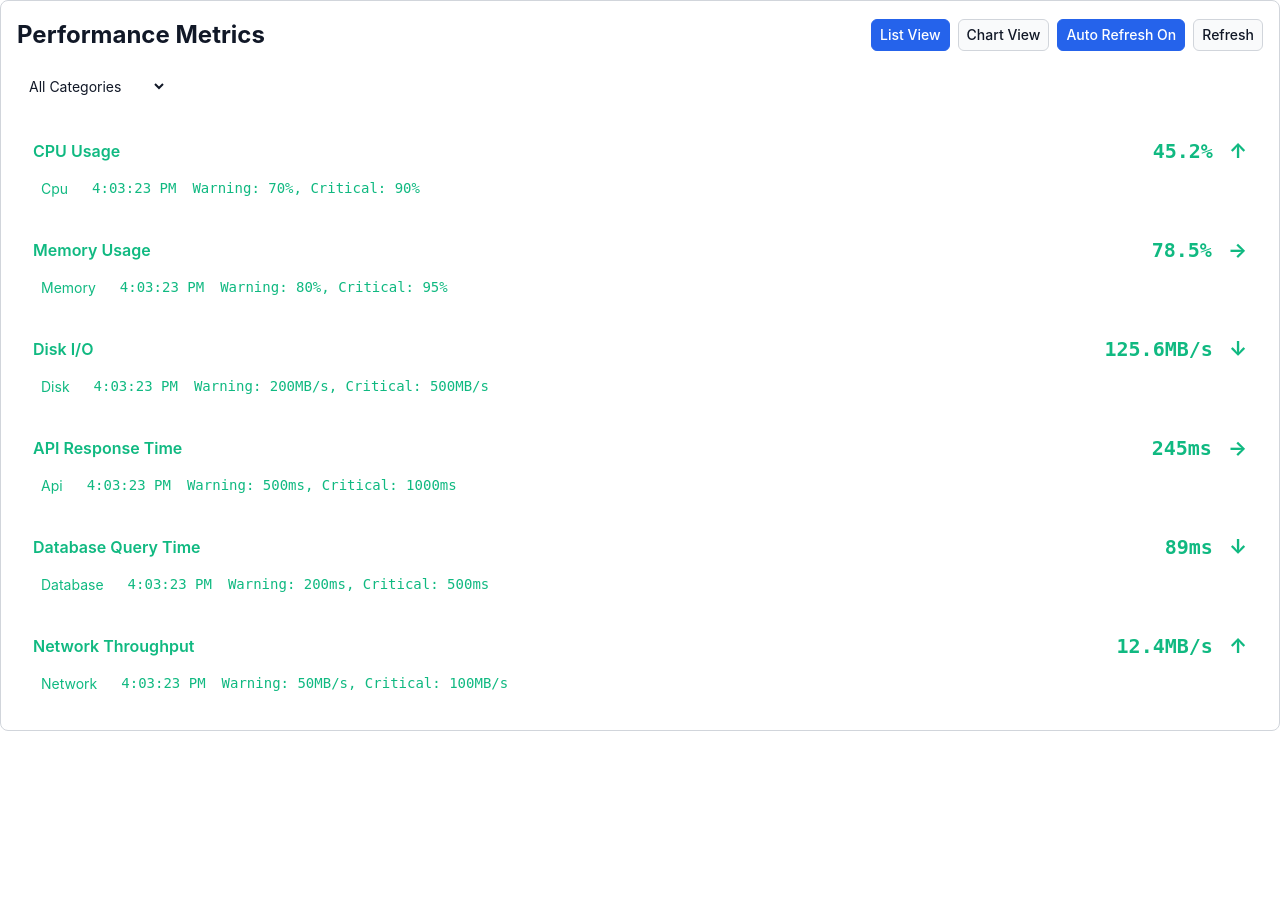
Test case: PerformanceMetrics Component › switches between list and chart view
expect the heading "Performance Metrics" is shown: met, box [17,17,265,53]
expect the text "CPU Usage" is shown: met, box [33,141,120,161]
Note: Switch to chart view
Click the button "Chart View".
click(1004, 35)  # box [958,19,1049,51]
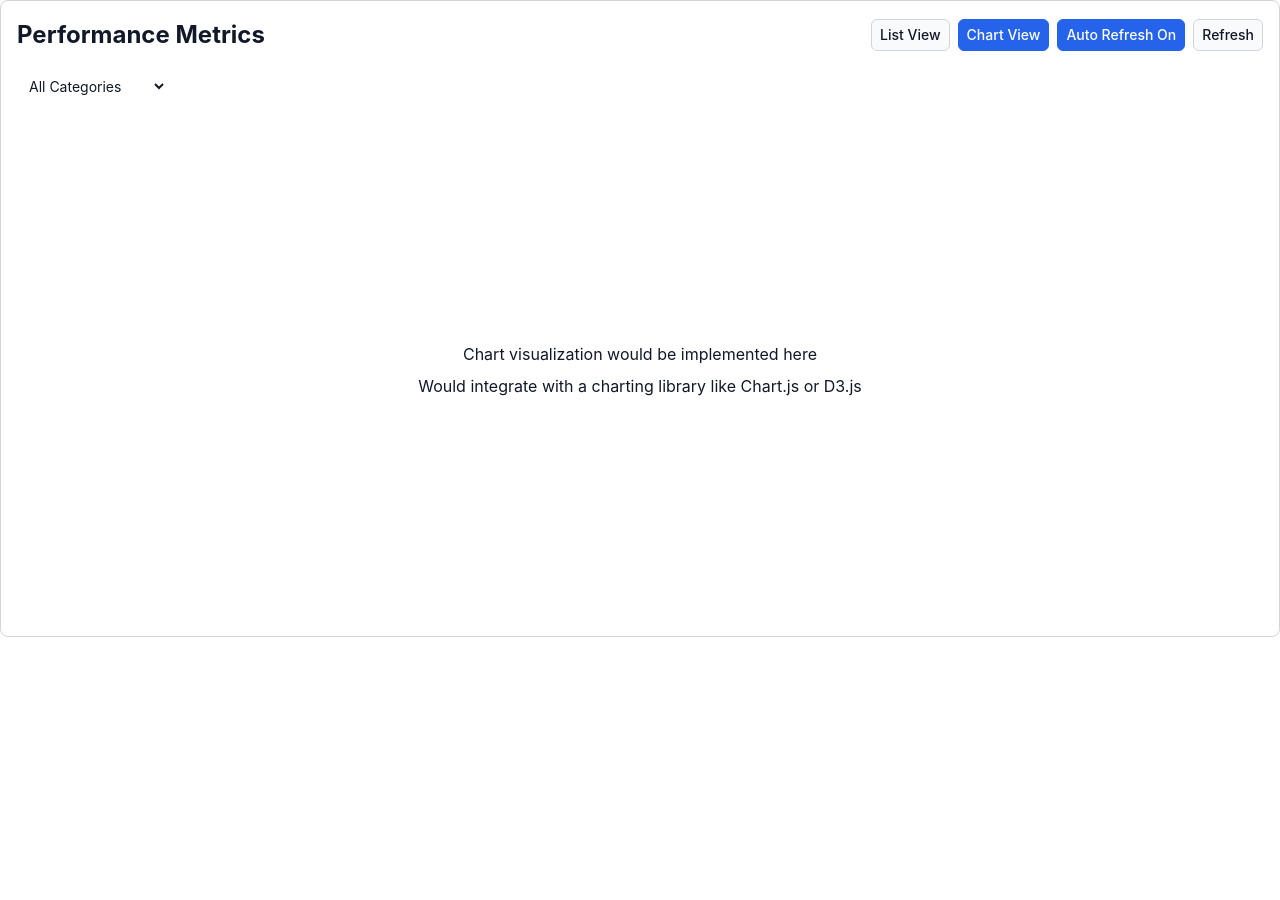
expect the text "Chart visualization would be implemented here" is shown: met, box [463,344,817,364]
Note: Switch back to list view
Click the button "List View".
click(910, 35)  # box [871,19,950,51]
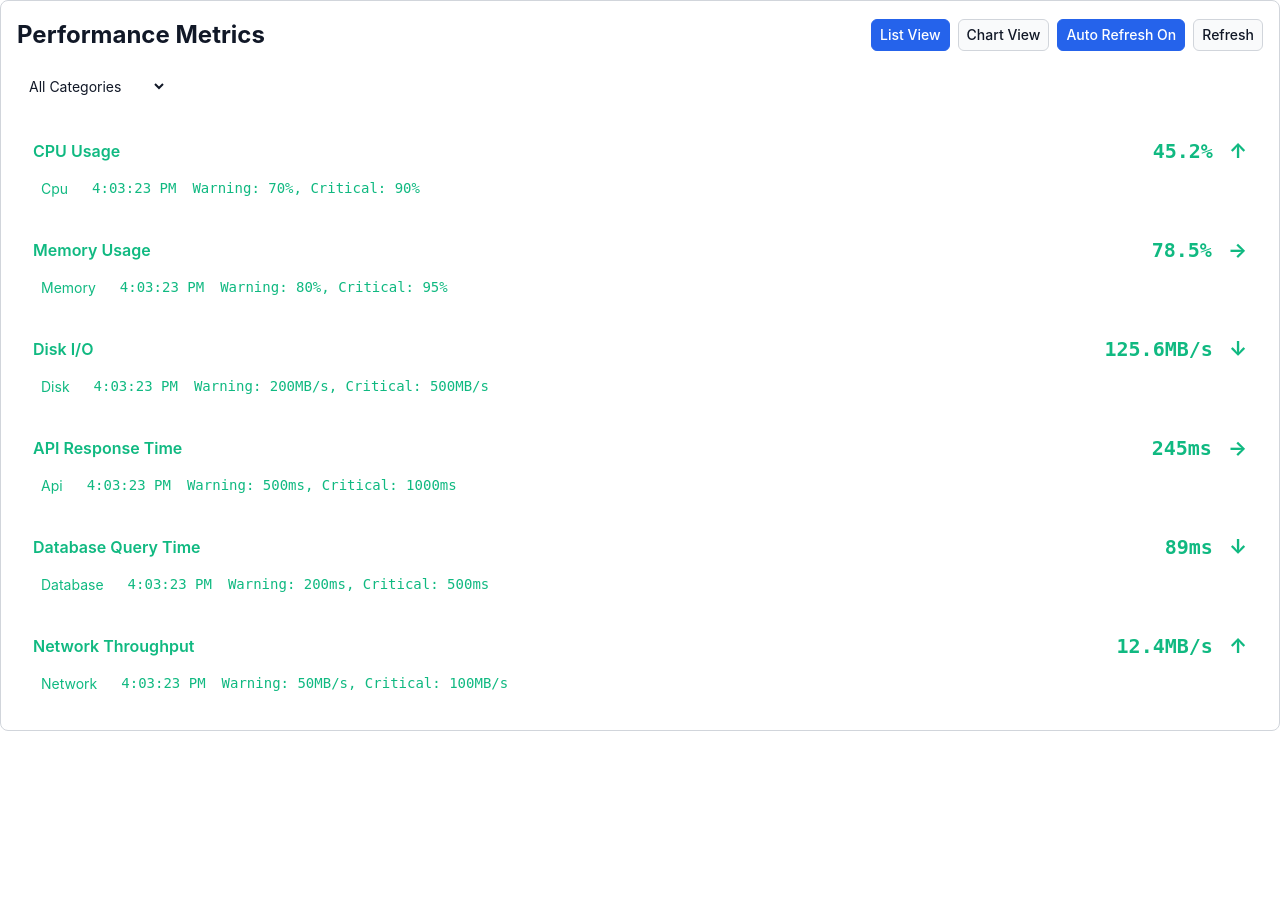
expect the text "CPU Usage" is shown: met, box [33,141,120,161]
